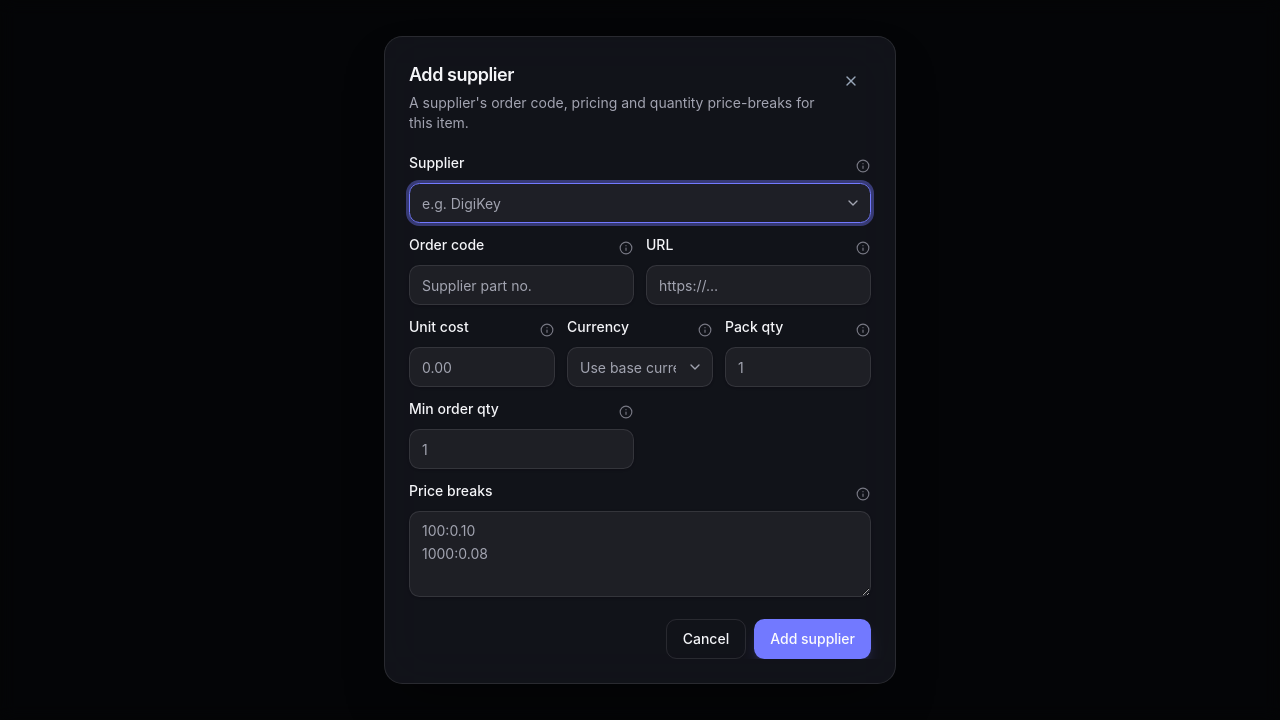
Test case: SupplierPartFormDialog — the validation gates block submit › rejects a zero minimum order quantity
The image size is (1280, 720).
Type "DigiKey" into the dropdown with test id "supplier-part-name".
click(640, 203); type("DigiKey")  # box x1=409 y1=183 x2=871 y2=223
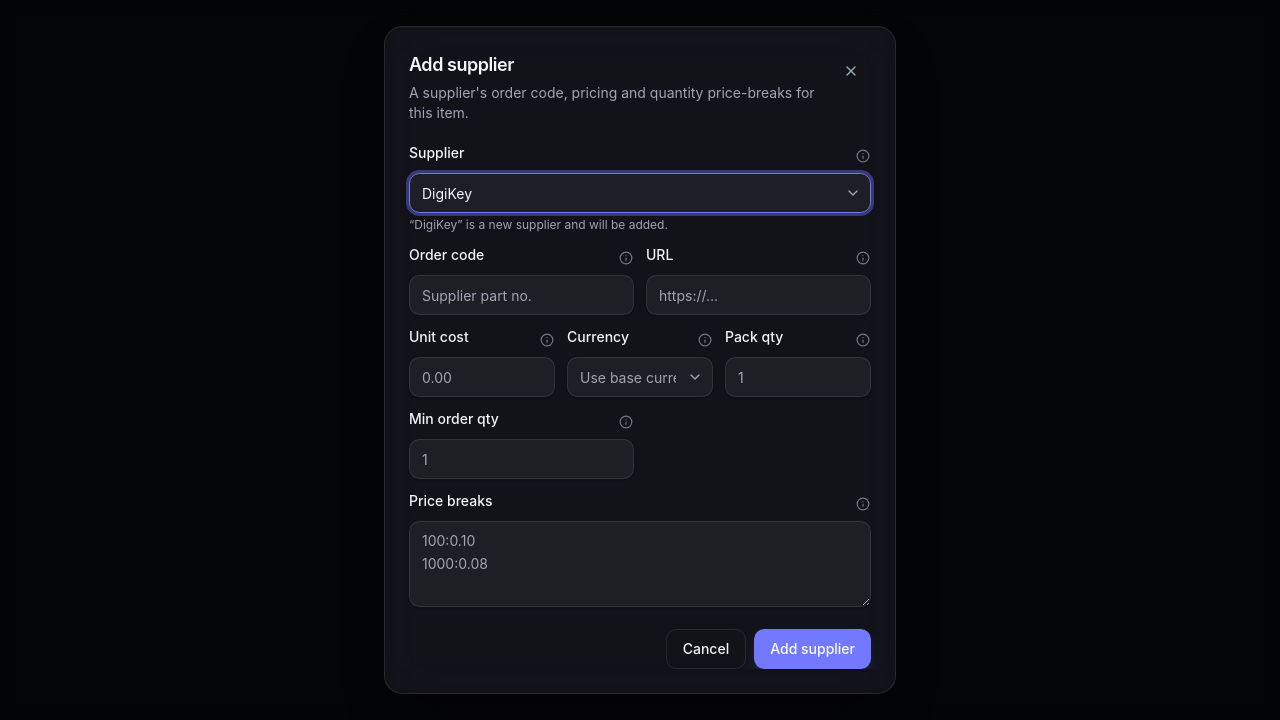
Type "0" into the field labelled "Min order qty".
click(522, 459); type("0")  # box x1=409 y1=439 x2=634 y2=479
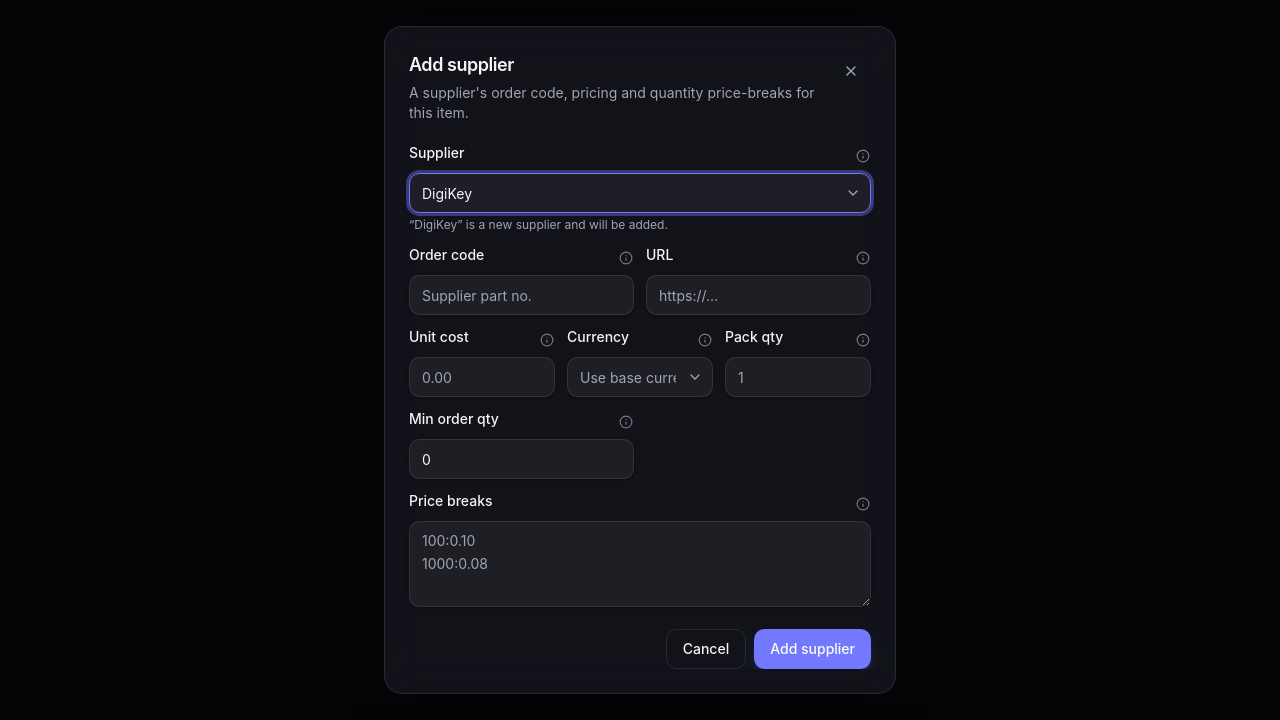
Submit the form with test id "supplier-part-form", box x1=409 y1=143 x2=871 y2=669
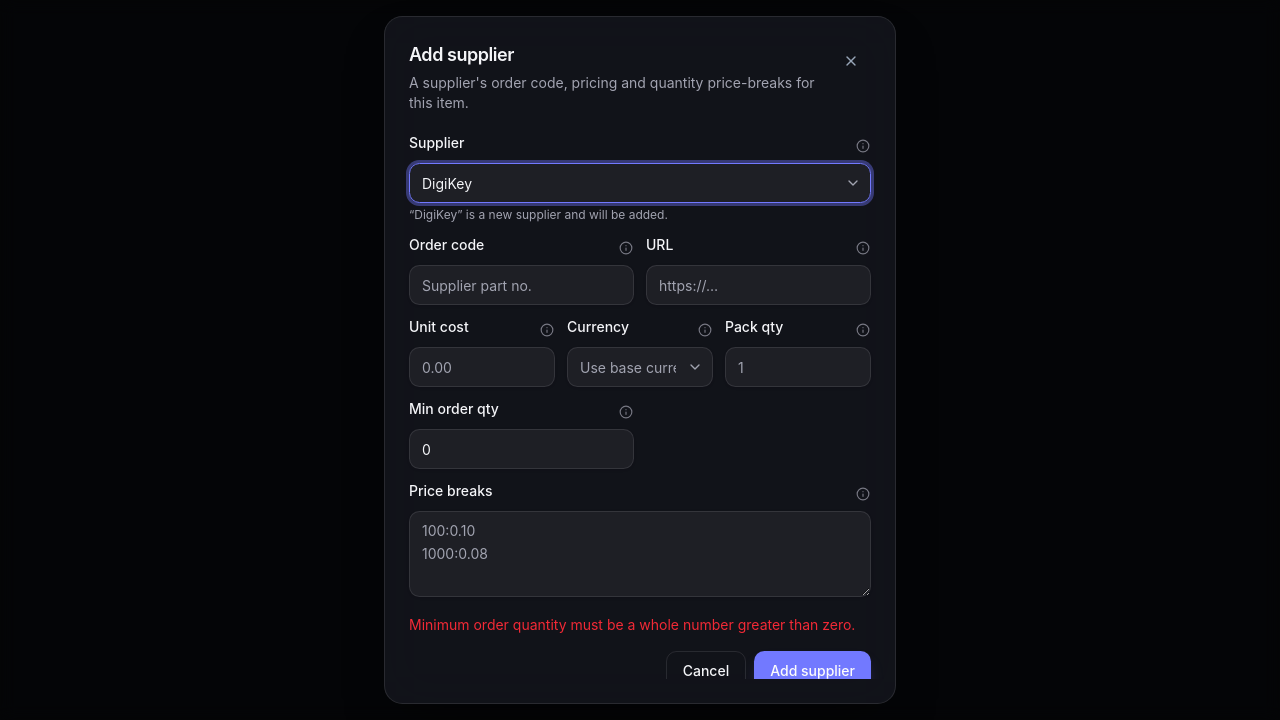
Now the message "Minimum order quantity must be a whole number greater than zero." is shown, box x1=409 y1=615 x2=871 y2=635
